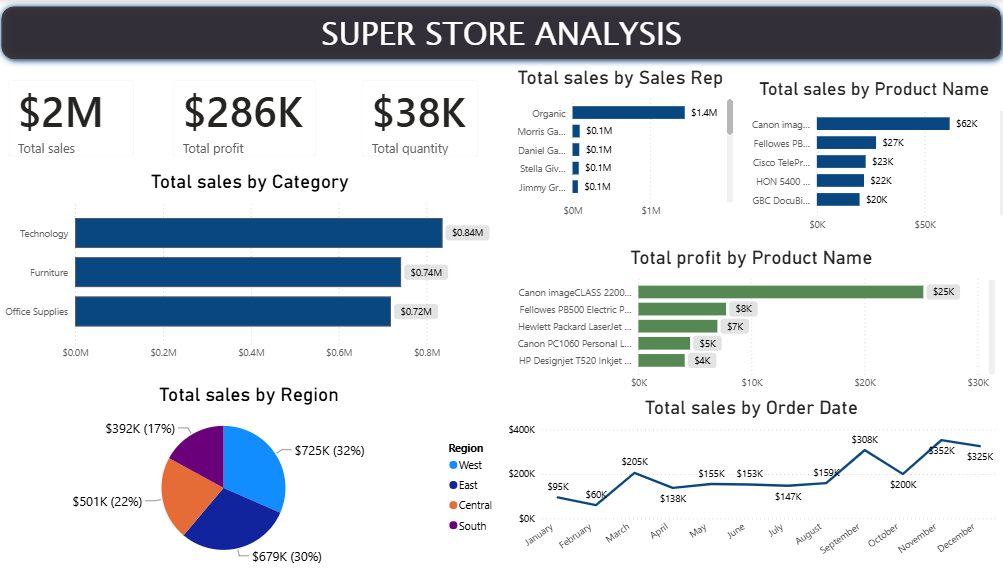

Layout of this report page (visuals, bound fields, positions):
{"tool":"powerbi","page":{"name":"Page 1","canvas":[1280,720],"ordinal":0},"visuals":[{"type":"cardVisual","fields":{"Data":["Sum(Orders.Sales)"]},"box":[0,85,193.3,130],"z":0},{"type":"shape","box":[0,0,1279.4,85],"z":1000},{"type":"cardVisual","fields":{"Data":["Sum(Orders.Profit)"]},"box":[208.3,85,215,130],"z":2000},{"type":"cardVisual","fields":{"Data":["Sum(Orders.Quantity)"]},"box":[446.7,85,181.7,130],"z":3000},{"type":"clusteredBarChart","title":"Total sales by Category","fields":{"Category":["Orders.Category"],"Y":["Sum(Orders.Sales)"]},"box":[1.9,215.4,640.6,247.6],"z":4000},{"type":"pieChart","title":"Total sales by Region","fields":{"Category":["Orders.Region"],"Y":["Sum(Orders.Sales)"]},"box":[0,483.8,642.5,236.2],"z":5000},{"type":"clusteredBarChart","title":"Total sales by Sales Rep","fields":{"Category":["Orders.Sales Rep"],"Y":["Sum(Orders.Sales)"]},"box":[643.3,85,293.3,200],"z":6000},{"type":"clusteredBarChart","title":"Total sales by Product Name","fields":{"Category":["Orders.Product Name"],"Y":["Sum(Orders.Sales)"]},"box":[936.7,100,343.3,201.7],"z":7000},{"type":"clusteredBarChart","title":"Total profit by Product Name","fields":{"Category":["Orders.Product Name"],"Y":["Sum(Orders.Profit)"]},"box":[643.3,311.7,623.3,190],"z":8000},{"type":"lineChart","title":"Total sales by Order Date","fields":{"Y":["Sum(Orders.Sales)"],"Category":["Orders.Order Date.Variation.Date Hierarchy.Month","Orders.Order Date.Variation.Date Hierarchy.Day"]},"box":[643.3,501.7,623.3,218.3],"z":9000}]}

Visuals, with their boxes in screenshot pixels (x1, y1, x2, y2), scaled from the page's 1280x720 canvas onto the 1003x570 screenshot:
cardVisual - Sum(Orders.Sales): pyautogui.locateOnScreen(0, 67, 151, 170)
shape: pyautogui.locateOnScreen(0, 0, 1002, 67)
cardVisual - Sum(Orders.Profit): pyautogui.locateOnScreen(163, 67, 332, 170)
cardVisual - Sum(Orders.Quantity): pyautogui.locateOnScreen(350, 67, 492, 170)
"Total sales by Category" clusteredBarChart: pyautogui.locateOnScreen(1, 171, 503, 367)
"Total sales by Region" pieChart: pyautogui.locateOnScreen(0, 383, 503, 569)
"Total sales by Sales Rep" clusteredBarChart: pyautogui.locateOnScreen(504, 67, 734, 226)
"Total sales by Product Name" clusteredBarChart: pyautogui.locateOnScreen(734, 79, 1002, 239)
"Total profit by Product Name" clusteredBarChart: pyautogui.locateOnScreen(504, 247, 992, 397)
"Total sales by Order Date" lineChart: pyautogui.locateOnScreen(504, 397, 992, 569)
